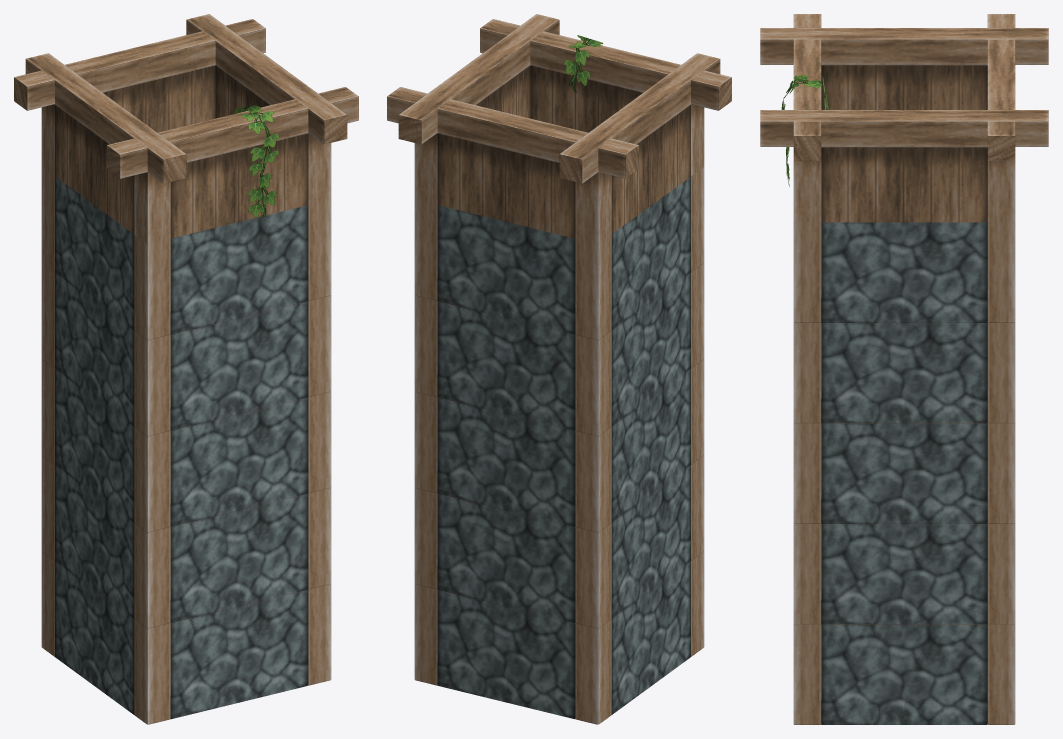
Rendered from well.fbx.
3 renders of one model, left to right at view 1: azimuth 30°, elevation 25°; view 2: azimuth 150°, elevation 25°; view 3: azimuth 270°, elevation 25°, orthographic. The views are drawn at different scales.
Visible parts, largest first — view 1: well; view 2: well; view 3: well.
Part boxes in pixels (x1,y1,x2,y2): well: (14,14,358,724); well: (387,14,731,724); well: (760,14,1048,724).
Bounding box in the file's own units: 260 × 607 × 260.
